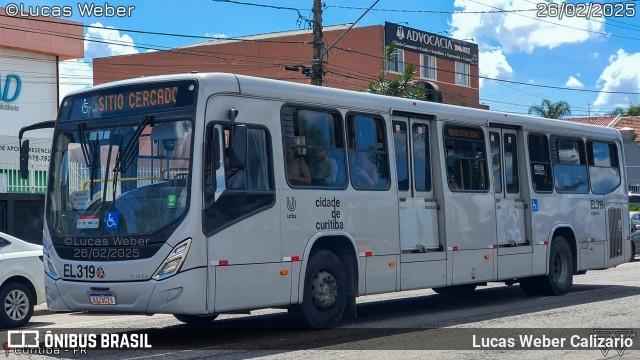SITIO CERCADO: (93, 86, 180, 114)
